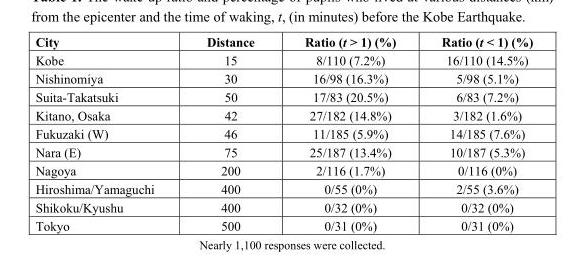table: (34, 34, 532, 232)
table column: (34, 34, 179, 232), (278, 34, 418, 232), (418, 34, 532, 232), (179, 34, 278, 232)
table column header: (34, 34, 532, 50)
table row: (34, 68, 532, 87), (34, 105, 532, 124), (34, 142, 532, 161), (34, 197, 532, 216), (34, 50, 532, 68), (34, 87, 532, 105), (34, 124, 532, 142), (34, 161, 532, 179), (34, 179, 532, 197), (34, 34, 532, 50), (34, 216, 532, 232)
